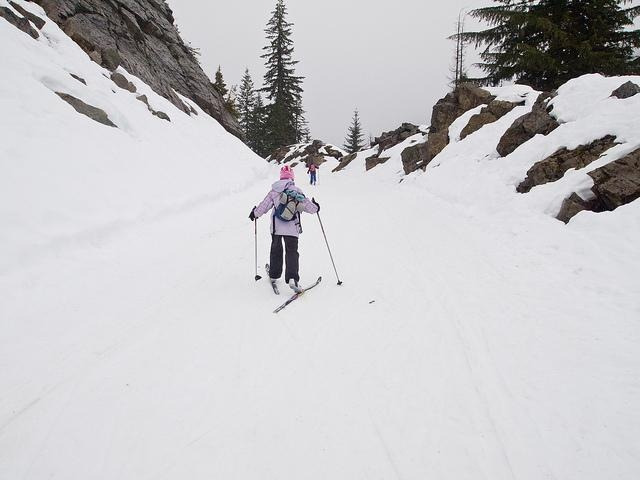person: (247, 165, 320, 295), (306, 163, 321, 185)
